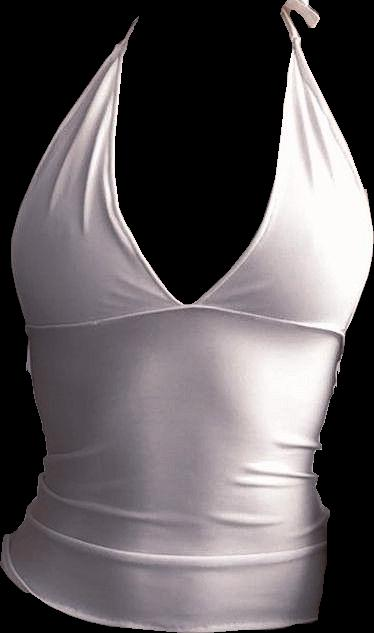Bodice: (1, 12, 372, 631)
Neckline: (108, 15, 296, 306), (25, 302, 344, 335)
Waistline: (2, 538, 320, 632)
